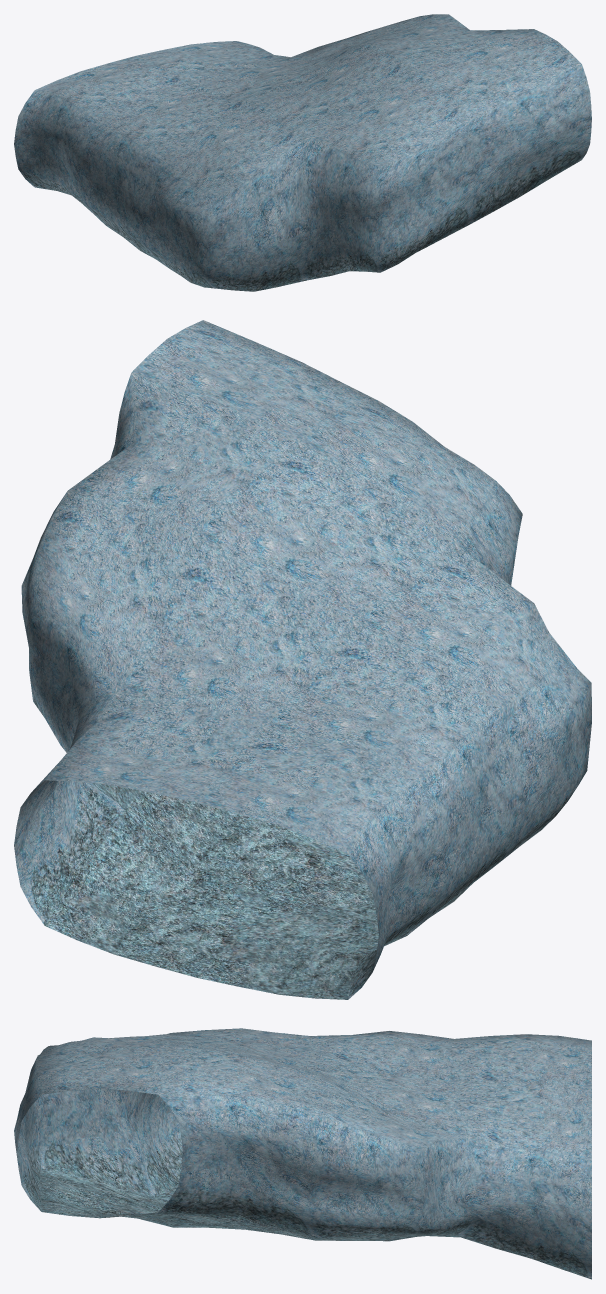
The model's file is thm_all_cave_flatland_s03_ice_r4_r4.fbx.
3 views of the same model, one above another, from view 1: azimuth 30°, elevation 25°; view 2: azimuth 150°, elevation 25°; view 3: azimuth 270°, elevation 25° (orthographic). The views are drawn at different scales.
Visible parts, largest first — view 1: mesh_node; view 2: mesh_node; view 3: mesh_node.
Boxes of the visible parts, x1,y1,x2,y2 form: mesh_node: (14, 14, 591, 291); mesh_node: (14, 320, 591, 999); mesh_node: (14, 1028, 591, 1279).
Size of the model in its own units: 26.79 by 16.79 by 32.05.
